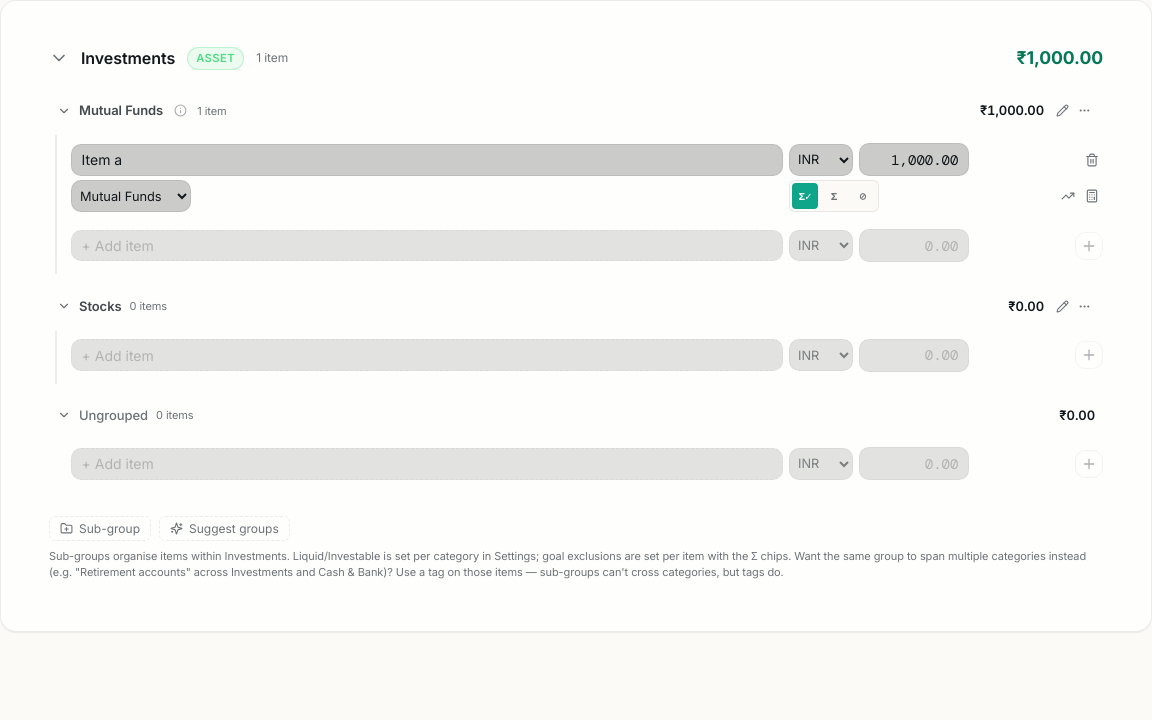
Test: CategorySection group descriptions › reveals the description text when the tooltip is opened
expect the text "Equity and debt schemes." is not shown: met
Click the button with class "info-tooltip-trigger" at point(180, 111), box [171, 102, 189, 120]
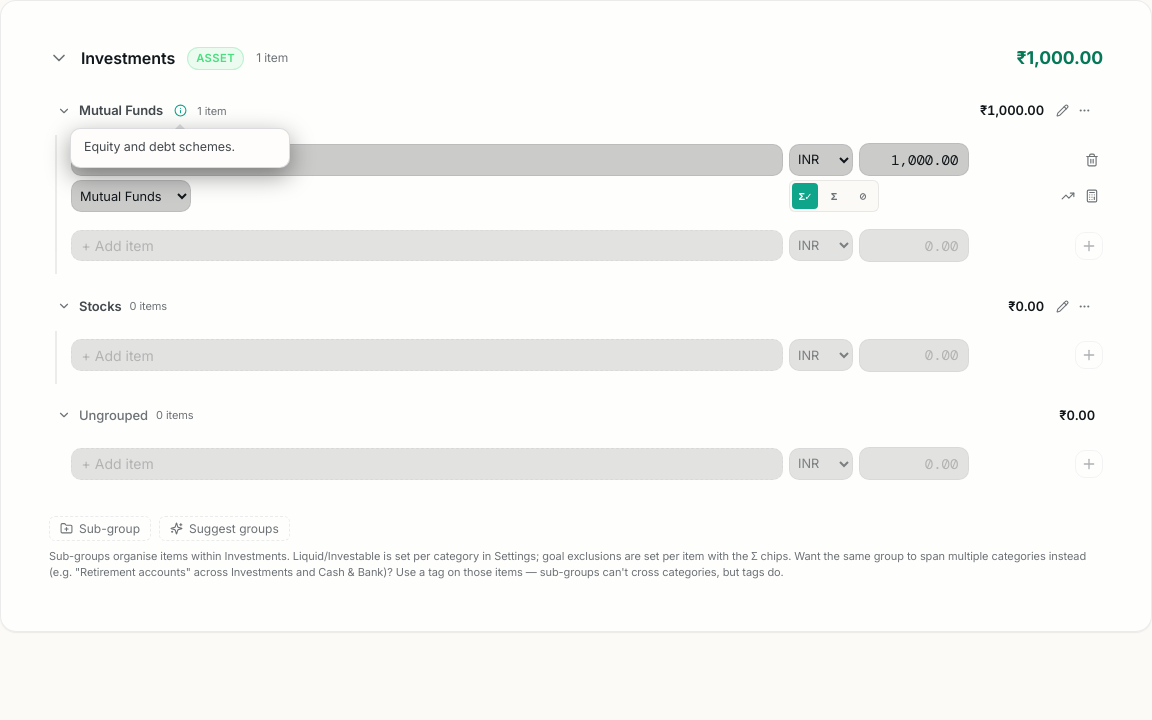
expect the tooltip "Equity and debt schemes." is shown: met, box [70, 128, 290, 168]
